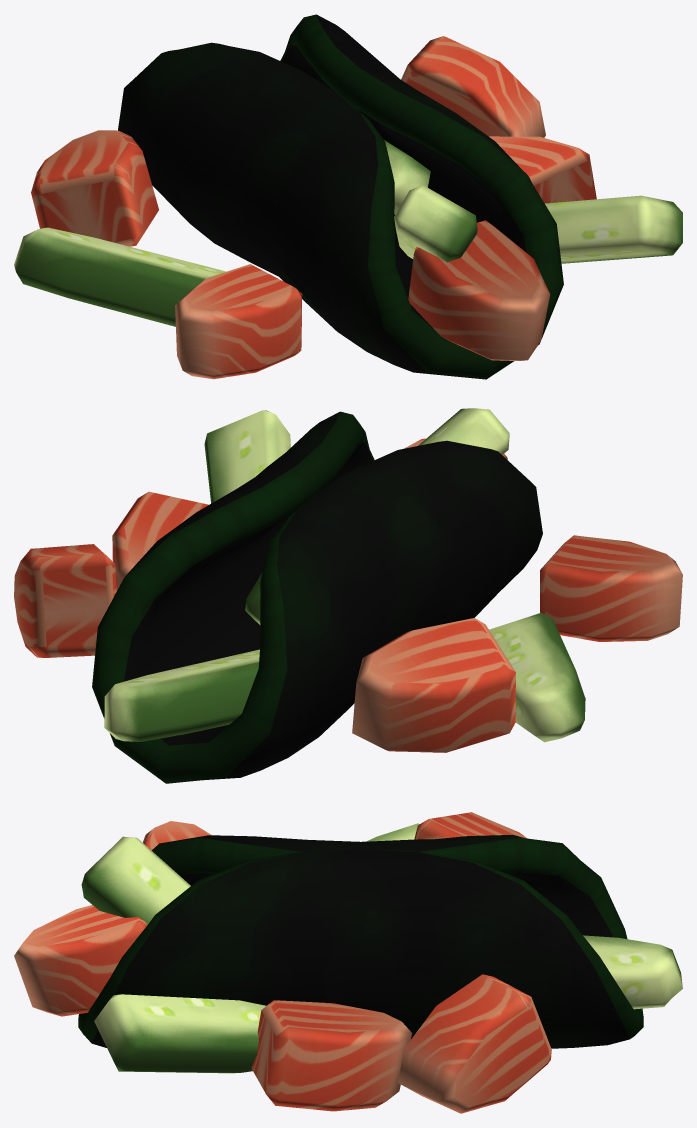
Rendered from m_plated_seaweed_fish_cucumber_01.fbx.
3 renders of one model, top to bottom at view 1: azimuth 30°, elevation 25°; view 2: azimuth 150°, elevation 25°; view 3: azimuth 270°, elevation 25°, orthographic. The views are drawn at different scales.
Visible parts, largest first — view 1: m_plated_seaweed_fish_cucumber_01_0, m_plated_seaweed_fish_cucumber_01_1, m_plated_seaweed_fish_cucumber_01_2; view 2: m_plated_seaweed_fish_cucumber_01_0, m_plated_seaweed_fish_cucumber_01_1, m_plated_seaweed_fish_cucumber_01_2; view 3: m_plated_seaweed_fish_cucumber_01_0, m_plated_seaweed_fish_cucumber_01_1, m_plated_seaweed_fish_cucumber_01_2.
Boxes of the visible parts, x1,y1,x2,y2 form: m_plated_seaweed_fish_cucumber_01_0: (118, 14, 563, 379); m_plated_seaweed_fish_cucumber_01_1: (31, 36, 596, 379); m_plated_seaweed_fish_cucumber_01_2: (14, 140, 682, 326); m_plated_seaweed_fish_cucumber_01_0: (92, 411, 542, 783); m_plated_seaweed_fish_cucumber_01_1: (14, 438, 682, 752); m_plated_seaweed_fish_cucumber_01_2: (104, 408, 585, 742); m_plated_seaweed_fish_cucumber_01_0: (78, 835, 643, 1048); m_plated_seaweed_fish_cucumber_01_1: (14, 812, 551, 1113); m_plated_seaweed_fish_cucumber_01_2: (81, 823, 682, 1073).
Size of the model in its own units: 0.8952 by 0.3443 by 0.9999.
